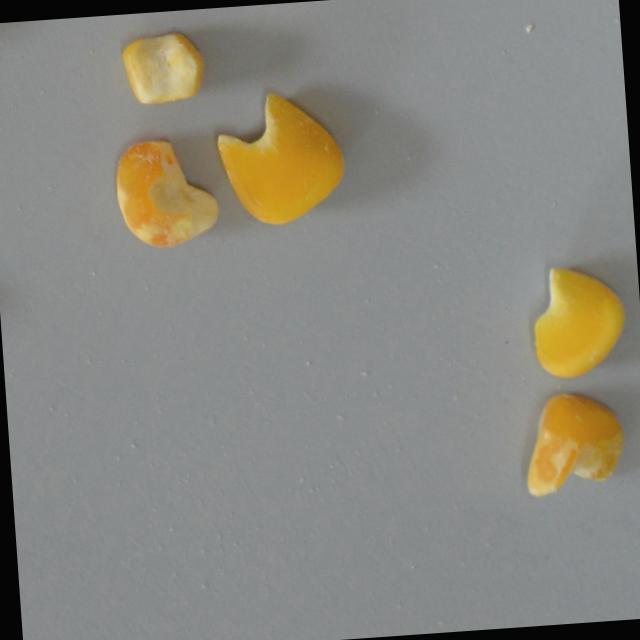dañado: (209, 82, 353, 234), (109, 127, 227, 256), (522, 252, 632, 386), (516, 384, 629, 501)
punto_negro: (118, 28, 208, 109)
